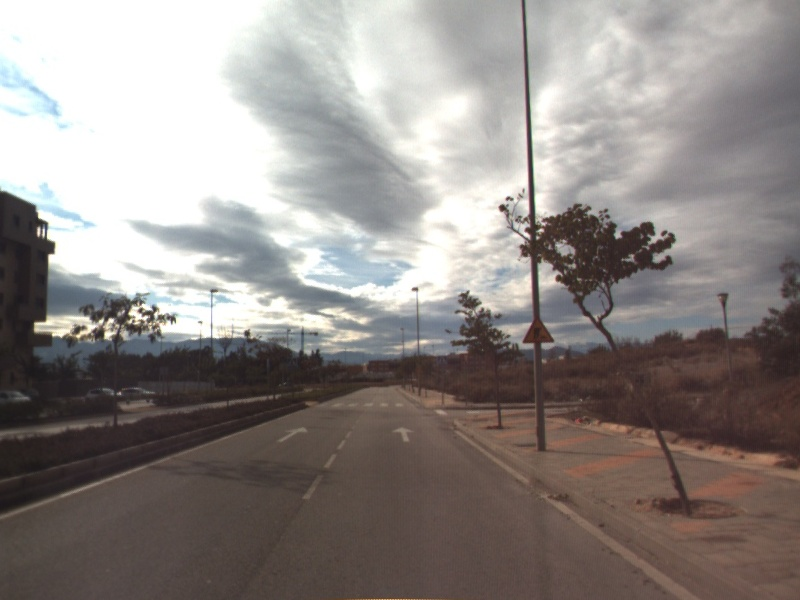STRAIGHT: (274, 425, 310, 444), (390, 424, 417, 444)
